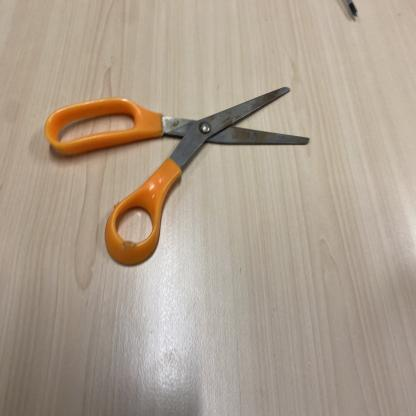scissors: (44, 86, 310, 268)
